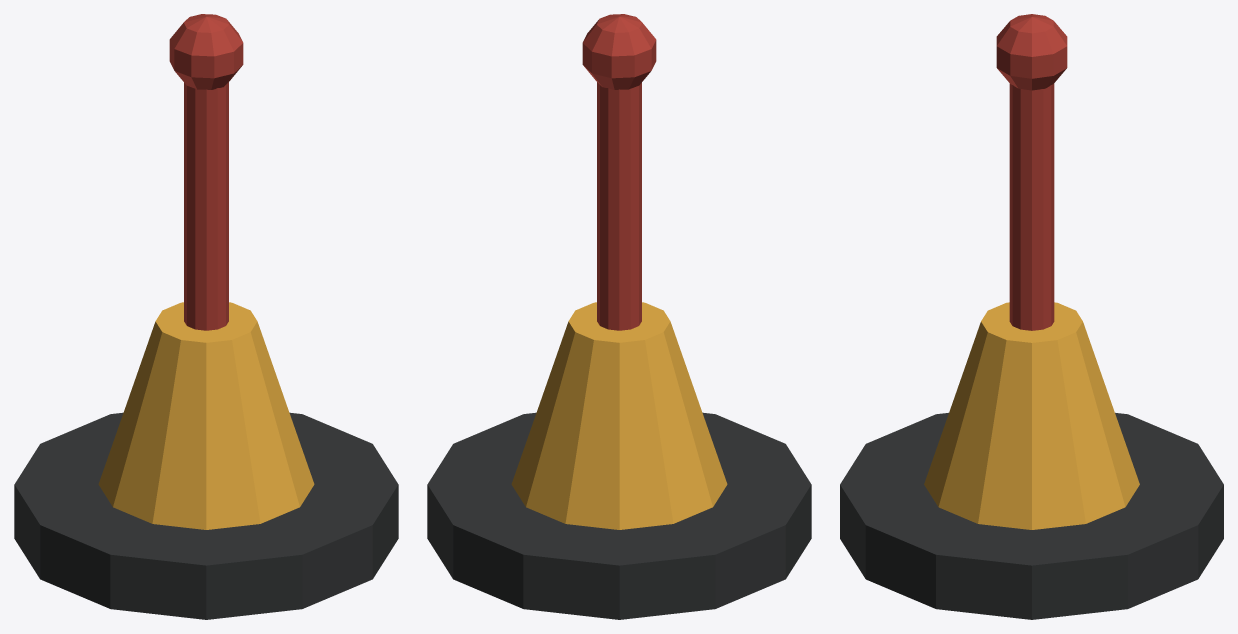
File: 028_channel_marker_buoy.glb
The picture shows the model from 3 angles, left to right: view 1: azimuth 30°, elevation 25°; view 2: azimuth 150°, elevation 25°; view 3: azimuth 270°, elevation 25°; orthographic projection.
Parts seen in each view (by area): view 1: Channel marker buoy; view 2: Channel marker buoy; view 3: Channel marker buoy.
Part boxes in pixels (left/top/right/bottom): Channel marker buoy: left=14, top=14, right=398, bottom=619; Channel marker buoy: left=427, top=14, right=811, bottom=619; Channel marker buoy: left=840, top=14, right=1223, bottom=619.
Bounding box in the file's own units: 1.28 × 1.92 × 1.28.
